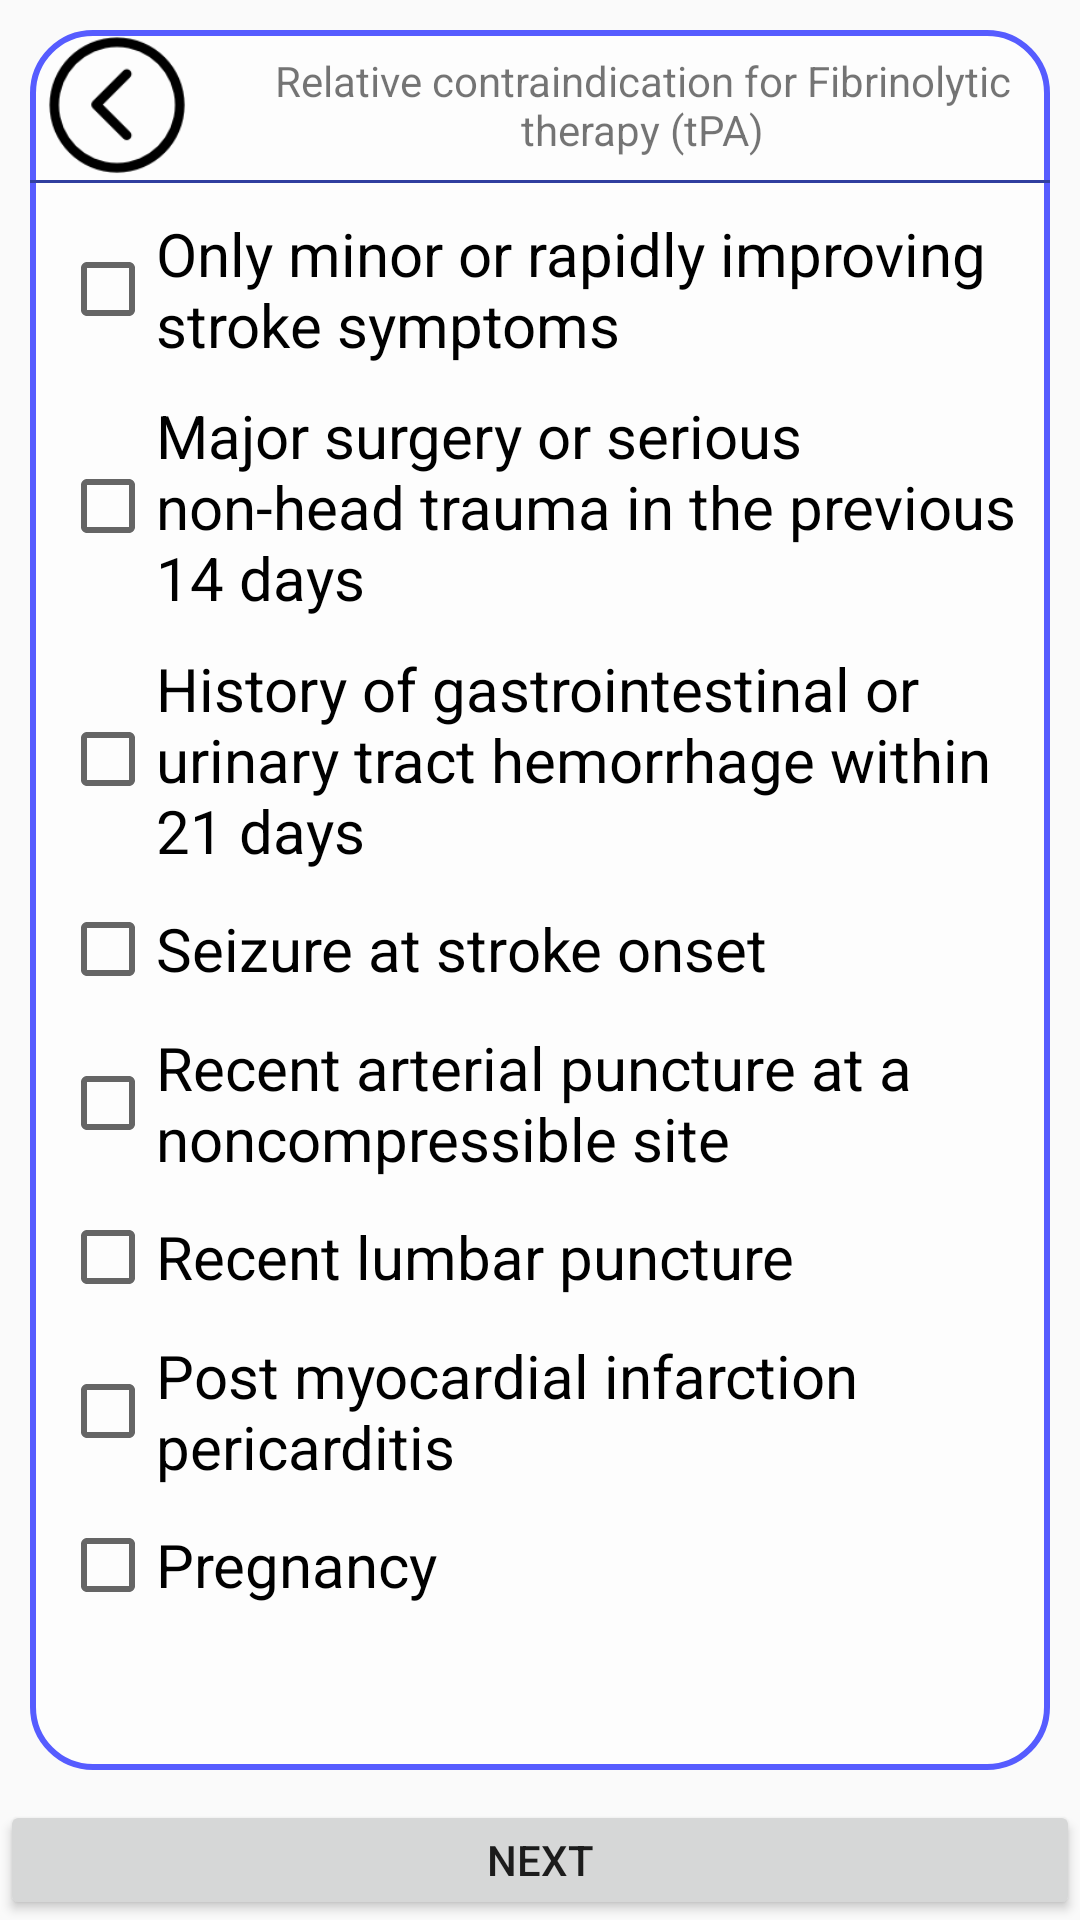

Screen size 1080px x 1920px. Icon name, then its box in pixels as (x1,y1,x2,y2):
prev: (49,37,185,173)
